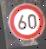Speed Limit -60-: (4, 0, 46, 43)
